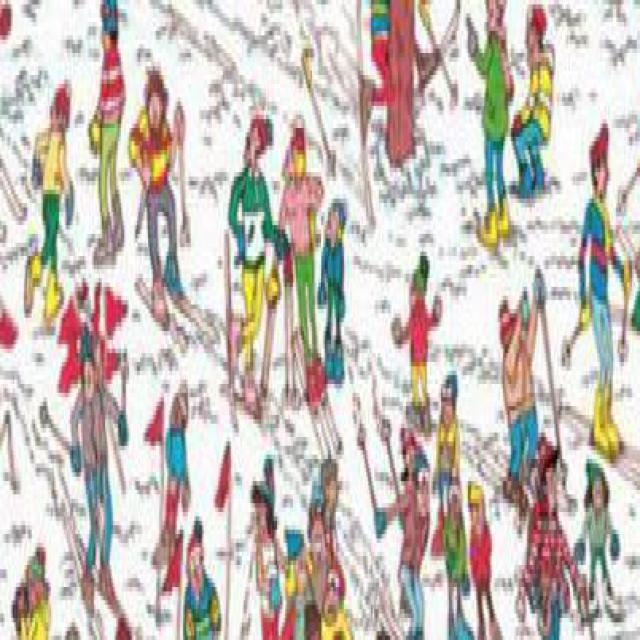waldo: (538, 437, 559, 503)
